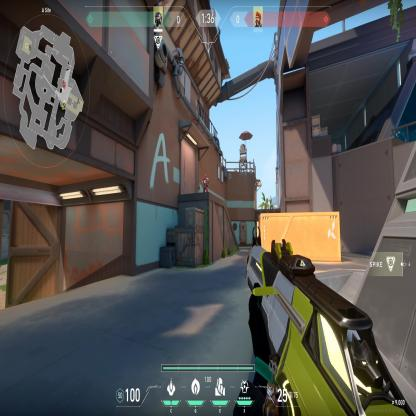enemy: (202, 173, 210, 193)
